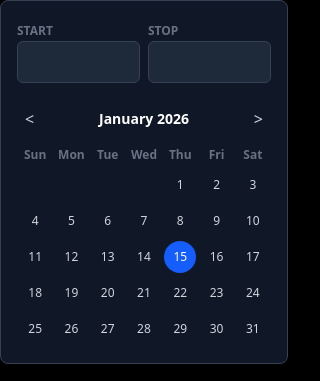
Scenario: DatePicker.vue › User Interactions › navigates to the previous year when going back from January
Click the button with test id "prev-month-btn".
click(30, 119)  # box x1=17 y1=99 x2=42 y2=139
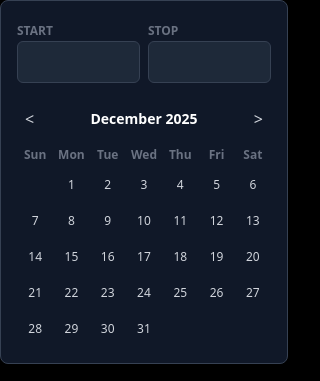
Expected: the heading with test id "month-year-header" reads "December 2025", x1=90 y1=109 x2=198 y2=128
